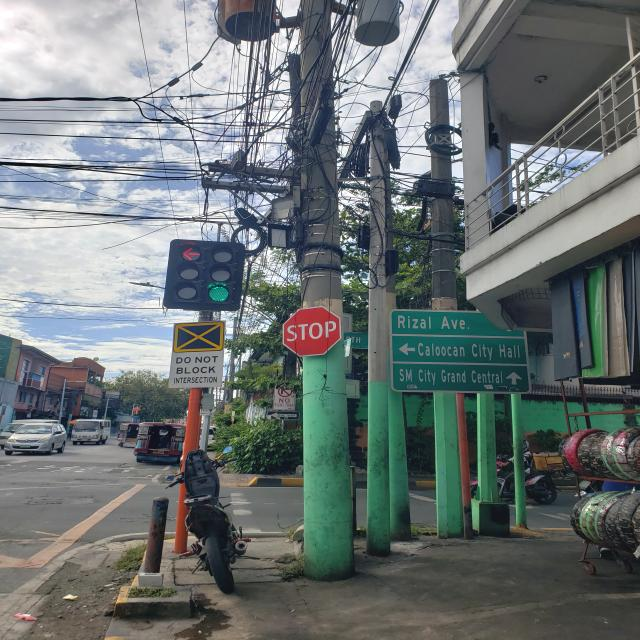stop-sign: (282, 306, 342, 357)
